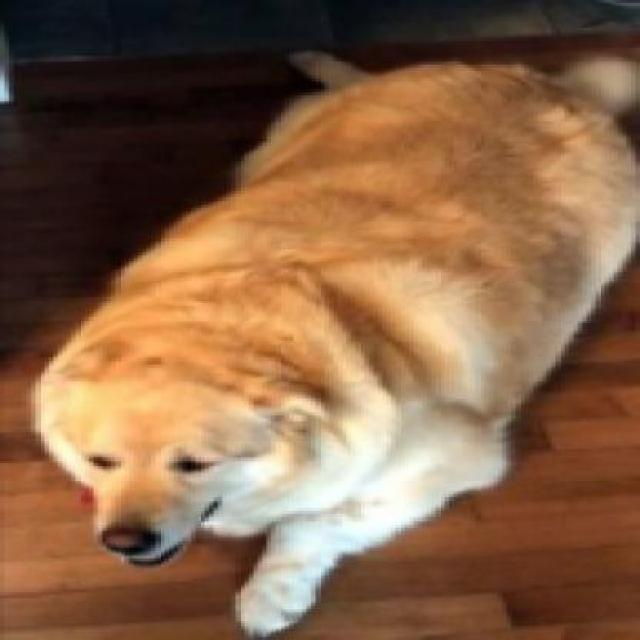Dog: (27, 43, 636, 639)
